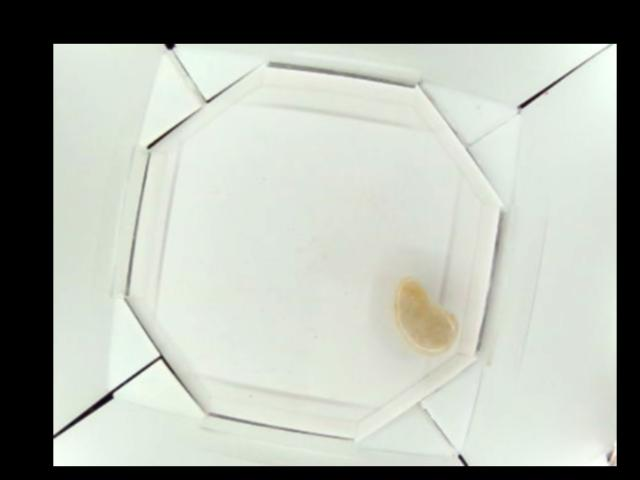Pebble: (396, 280, 458, 357)
